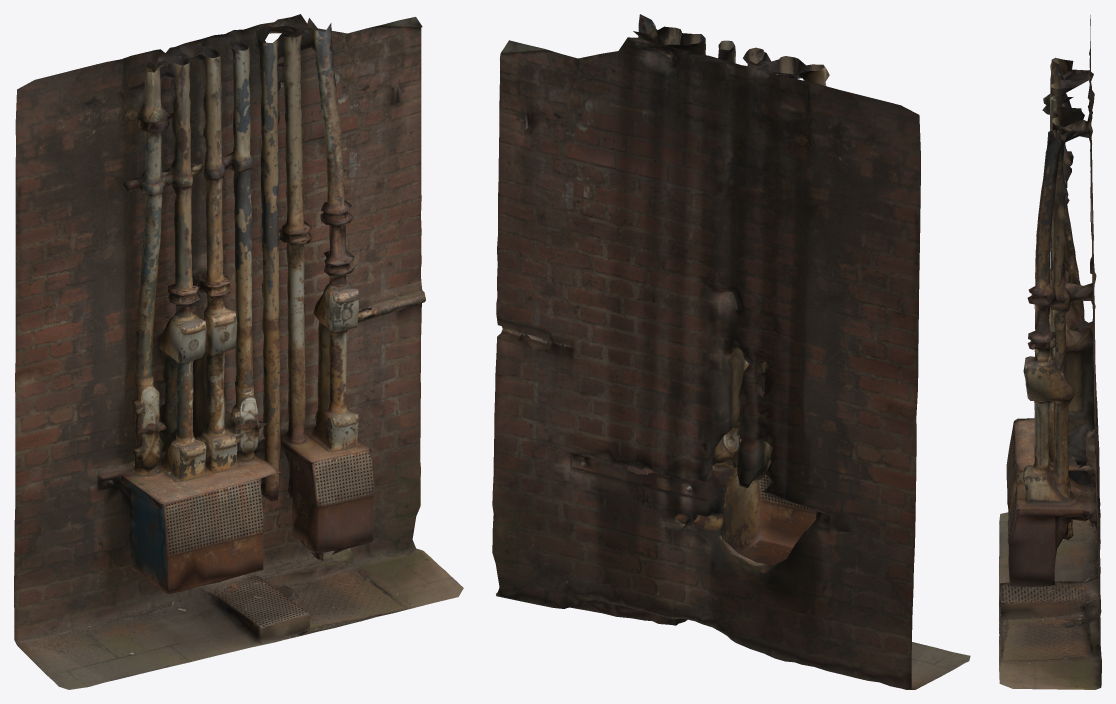
The model's file is rusty_pipes.glb.
3 renders of one model, left to right at view 1: azimuth 30°, elevation 25°; view 2: azimuth 150°, elevation 25°; view 3: azimuth 270°, elevation 25°, orthographic. The views are drawn at different scales.
Parts seen in each view (by area): view 1: pipes_0; view 2: pipes_0; view 3: pipes_0.
Boxes of the visible parts, x1=… form: pipes_0: x1=14, y1=14, x2=463, y2=689; pipes_0: x1=492, y1=14, x2=970, y2=689; pipes_0: x1=999, y1=15, x2=1101, y2=689.
Bounding box in the file's own units: 1.5 × 2.01 × 0.366.
Materials: 1 (1 with a texture image).
